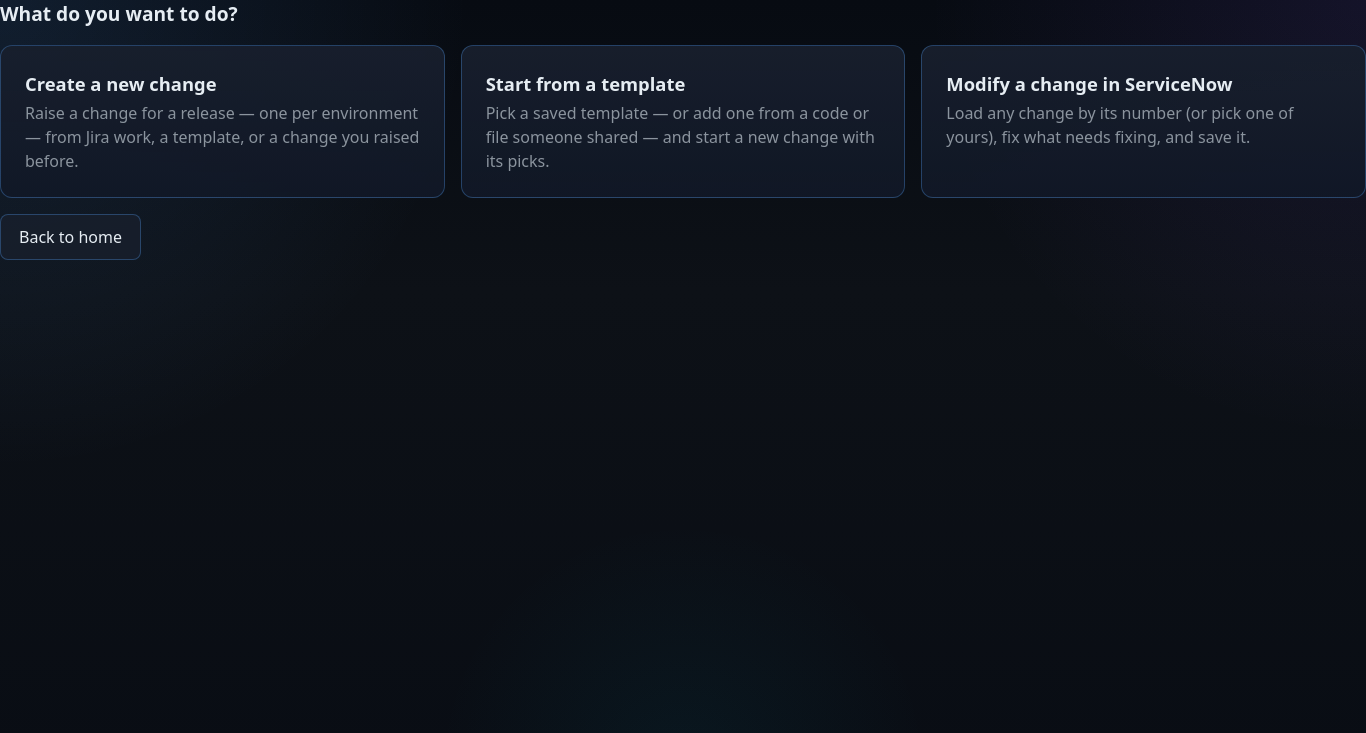
Test: ChangeWizard — templates › opens a saved template in a new change with its picks only — the change keeps its own writing
Click the button "Start from a template". click: (683, 122)
box: [461,45,905,198]
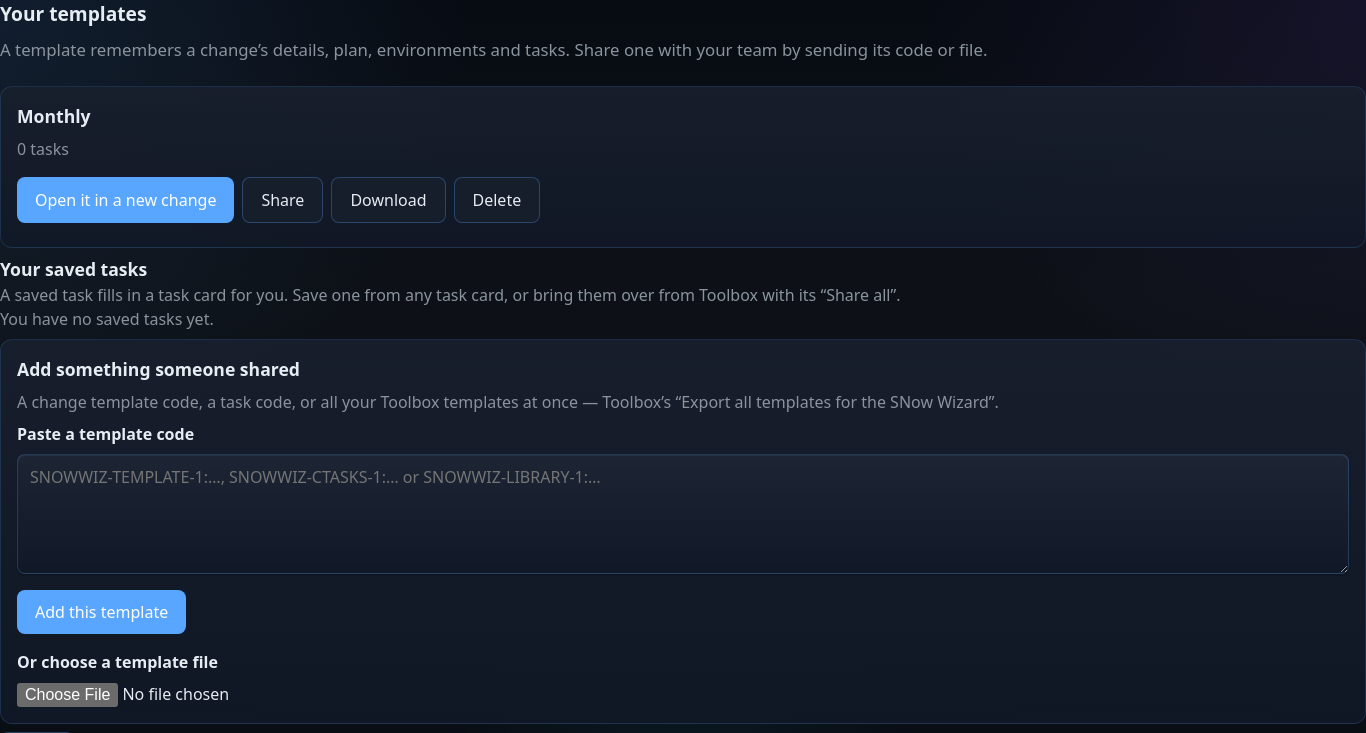
Click the button "Open it in a new change". click: (126, 200)
box: [17,177,234,223]
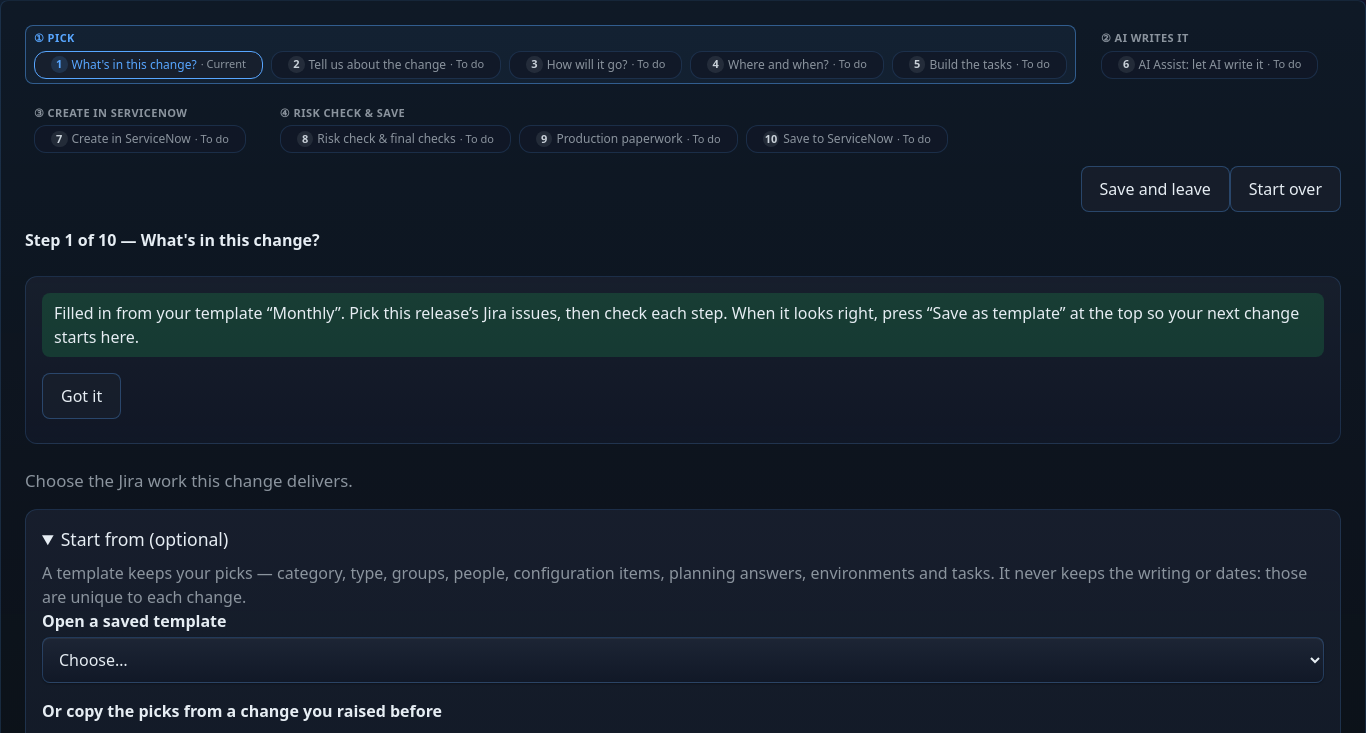
Now the text "Filled in from your template “Monthly”" is shown, box [54,302,1299,348]
